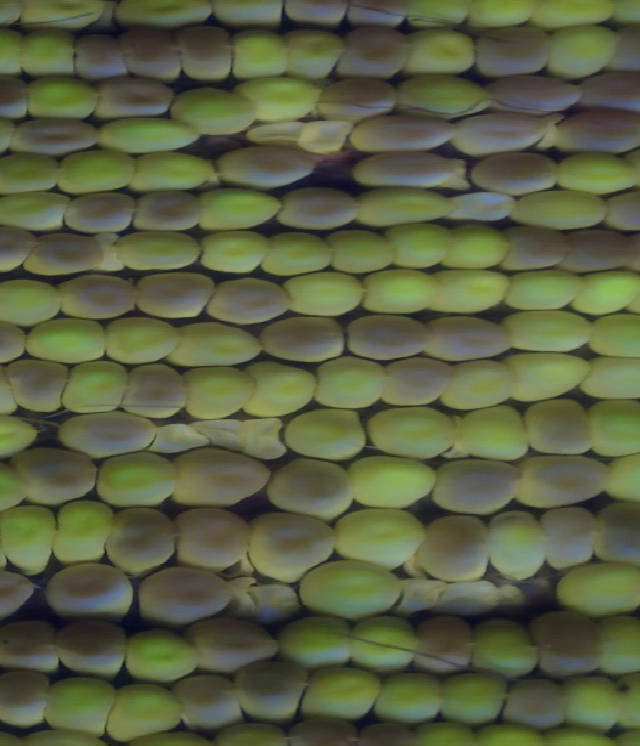fluorescent: (288, 551, 410, 629), (325, 503, 435, 580), (361, 401, 467, 466), (345, 179, 462, 235), (478, 504, 555, 589), (495, 345, 598, 408), (343, 449, 442, 513), (99, 679, 195, 745), (294, 659, 387, 726), (170, 359, 260, 426), (550, 556, 640, 623), (388, 68, 499, 122), (277, 404, 375, 465), (163, 318, 269, 374), (338, 609, 424, 678), (48, 492, 125, 569), (543, 15, 627, 85), (506, 182, 619, 234), (95, 447, 185, 511), (468, 614, 550, 684), (306, 349, 394, 414), (495, 306, 605, 358), (165, 82, 265, 139), (121, 621, 205, 688), (86, 113, 208, 159), (38, 671, 123, 737), (271, 609, 360, 672), (427, 356, 521, 415), (366, 667, 454, 730), (391, 23, 484, 82), (0, 499, 67, 580), (277, 264, 370, 322), (18, 313, 114, 369), (235, 358, 323, 419), (96, 311, 188, 369), (556, 668, 631, 738), (435, 666, 518, 729), (545, 146, 640, 201), (112, 224, 206, 279), (49, 145, 144, 199), (55, 355, 135, 419), (455, 401, 536, 464), (497, 264, 595, 316), (191, 183, 288, 235), (423, 265, 520, 317), (19, 68, 106, 124), (251, 227, 344, 279), (376, 216, 455, 277), (355, 263, 441, 319), (121, 147, 215, 198), (222, 26, 300, 87), (232, 72, 325, 123), (438, 217, 515, 277), (314, 228, 403, 279), (276, 25, 351, 84), (192, 226, 277, 278), (581, 393, 640, 463), (13, 25, 85, 81), (0, 269, 65, 331), (105, 1, 225, 34), (570, 265, 640, 320), (587, 609, 640, 681), (0, 187, 78, 235), (578, 306, 640, 366), (0, 144, 66, 199), (575, 353, 640, 408), (14, 1, 113, 35), (208, 1, 305, 33), (0, 406, 45, 467), (604, 664, 640, 734), (601, 445, 640, 509), (0, 456, 32, 522), (0, 23, 33, 80), (0, 1, 36, 34)
nonfluorescent: (164, 445, 280, 516), (132, 560, 241, 630), (181, 612, 291, 680), (425, 450, 528, 521), (243, 510, 345, 581), (508, 447, 619, 512), (261, 452, 362, 522), (164, 502, 255, 579), (6, 439, 107, 508), (521, 604, 608, 683), (36, 559, 140, 622), (99, 500, 184, 577), (414, 511, 498, 588), (208, 140, 325, 195), (164, 668, 254, 739), (254, 309, 358, 370), (463, 18, 562, 82), (344, 108, 462, 161), (516, 394, 605, 464), (229, 653, 315, 725), (335, 309, 443, 366), (198, 271, 300, 330), (42, 615, 135, 679), (416, 311, 521, 366), (56, 407, 161, 462), (481, 69, 594, 119), (109, 19, 192, 87), (115, 359, 198, 427), (541, 103, 640, 160), (447, 107, 553, 160), (467, 145, 568, 200), (130, 268, 224, 326), (330, 20, 416, 83), (312, 69, 404, 127), (534, 501, 605, 575), (271, 183, 368, 237), (494, 219, 581, 279), (405, 609, 479, 679), (350, 147, 463, 192), (166, 18, 242, 84), (2, 111, 106, 159), (17, 227, 112, 279), (57, 186, 145, 242), (51, 271, 146, 322), (370, 354, 456, 409), (0, 352, 75, 415), (555, 224, 640, 279), (128, 183, 211, 239), (498, 673, 575, 732), (91, 72, 178, 123), (68, 22, 135, 87), (588, 493, 640, 576), (0, 613, 65, 674), (0, 661, 54, 729), (569, 69, 640, 118), (0, 556, 46, 629), (279, 712, 363, 746), (599, 13, 640, 78), (0, 222, 44, 279), (593, 185, 640, 238), (335, 1, 417, 31), (0, 311, 37, 371), (0, 69, 36, 121)
